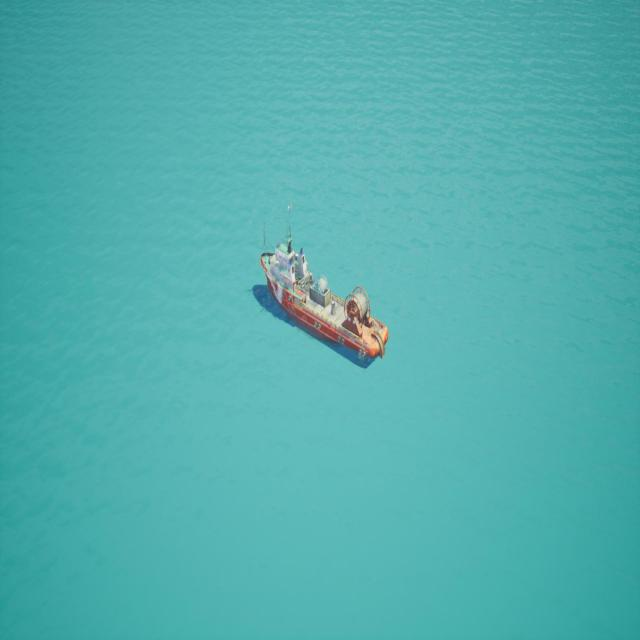tug boat: (256, 249, 382, 370)
